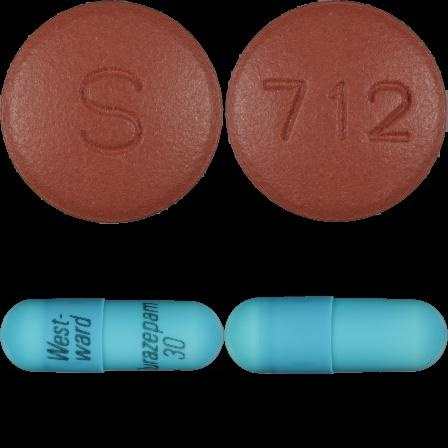21695-349: (0, 0, 224, 224)
